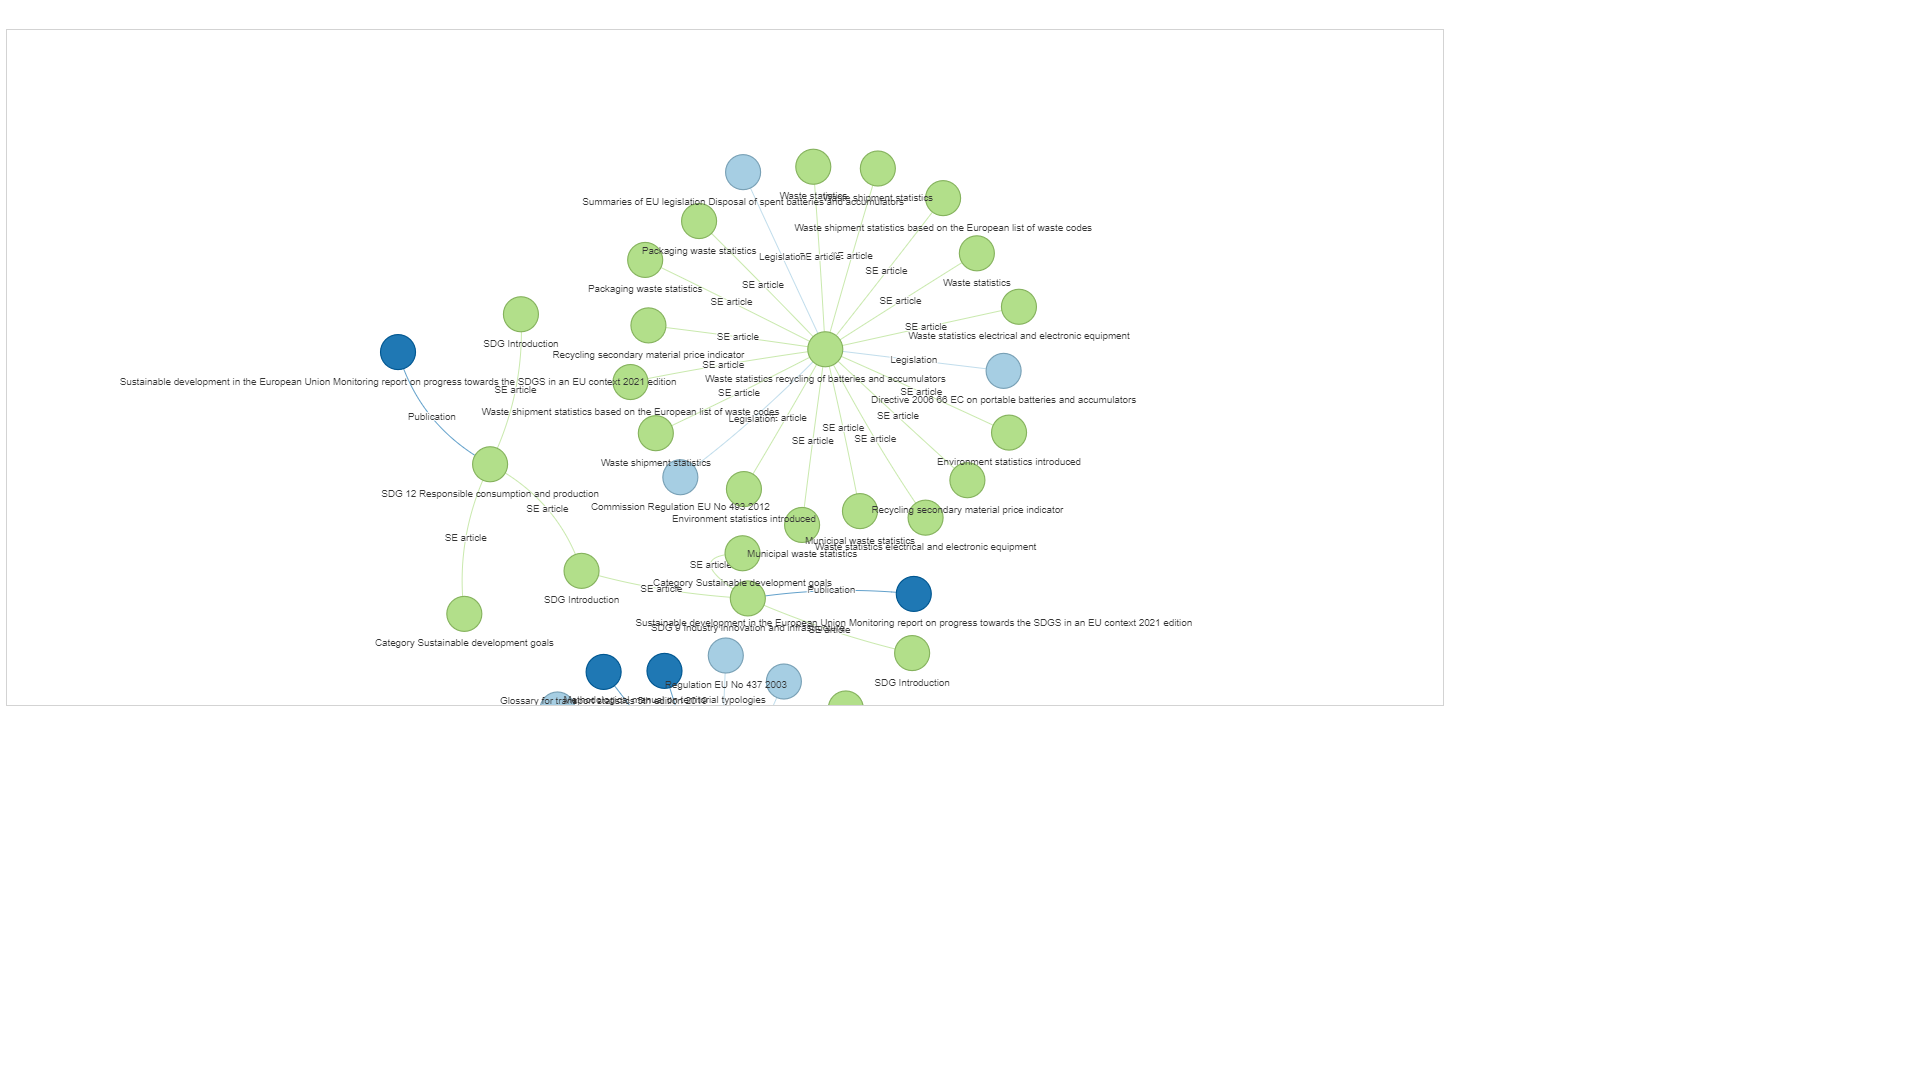

This screenshot's page, from the dashboard's own definition file:
{"tool":"powerbi","page":{"name":"Themes, sub-themes and categories (2)","canvas":[1601,1000],"ordinal":1},"visuals":[{"type":"NetworkNavigator1550434005853","fields":{"SOURCE_NODE":["Repeated rows.themes"],"TARGET_NODE":["Repeated rows.sub_themes"],"SOURCE_NODE_WEIGHT":["Repeated rows.Num_articles"],"SOURCE_NODE_COLOR":["Official_colors_2.Color"],"TARGET_NODE_COLOR":["Official_colors_2.Color"]},"box":[958.3,20.2,641.7,604.6],"z":0},{"type":"clusteredBarChart","title":"Number of articles by category","fields":{"Category":["Repeated rows.categories"],"Y":["Repeated rows.Num_articles_2"]},"box":[10.1,131.4,658.5,493.5],"z":1000},{"type":"tableEx","fields":{"Values":["Original.title","Repeated rows.Num_articles_2"]},"box":[20.9,624.9,647.6,375.3],"z":2000},{"type":"pieChart","title":"Articles by last update year","fields":{"Category":["Repeated rows.last_update.Variation.Date Hierarchy.Year"],"Y":["Repeated rows.Num_articles_2"]},"box":[958.3,640.6,605.7,347.3],"z":3000},{"type":"multiRowCard","fields":{"Values":["Repeated rows 2.Selected_theme_label_2"]},"box":[-0.4,1.4,762.9,40.4],"z":4000},{"type":"multiRowCard","fields":{"Values":["Repeated rows 2.Selected_sub_theme_label_2"]},"box":[4.7,41.8,757.9,45.5],"z":5000},{"type":"multiRowCard","fields":{"Values":["Repeated rows 2.Num_articles_label_2"]},"box":[4.7,87.3,335.2,45.5],"z":6000},{"type":"slicer","title":"Themes","fields":{"Values":["Repeated rows.themes"]},"box":[668.5,1.7,246.1,324.7],"z":7000},{"type":"slicer","title":"Sub-themes","fields":{"Values":["Repeated rows.sub_themes"]},"box":[668.5,404.9,246.1,595.2],"z":8000}]}

Visuals, with their boxes on the page's 1601x1000 design canvas (x1, y1, x2, y2). These are canvas units, not pixel positions in the 1920x1080 screenshot, which may show the page scaled, cropped or inside an application window:
NetworkNavigator1550434005853 - Repeated rows.themes x Repeated rows.sub_themes: <bbox>958, 20, 1600, 625</bbox>
"Number of articles by category" clusteredBarChart: <bbox>10, 131, 669, 625</bbox>
tableEx - Original.title x Repeated rows.Num_articles_2: <bbox>21, 625, 668, 1000</bbox>
"Articles by last update year" pieChart: <bbox>958, 641, 1564, 988</bbox>
multiRowCard - Repeated rows 2.Selected_theme_label_2: <bbox>0, 1, 762, 42</bbox>
multiRowCard - Repeated rows 2.Selected_sub_theme_label_2: <bbox>5, 42, 763, 87</bbox>
multiRowCard - Repeated rows 2.Num_articles_label_2: <bbox>5, 87, 340, 133</bbox>
"Themes" slicer: <bbox>668, 2, 915, 326</bbox>
"Sub-themes" slicer: <bbox>668, 405, 915, 1000</bbox>
